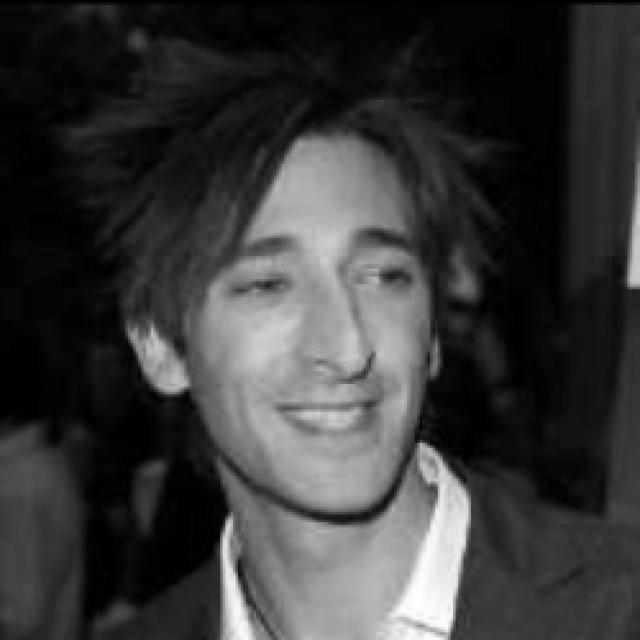real: (107, 56, 457, 526), (218, 256, 417, 304)
